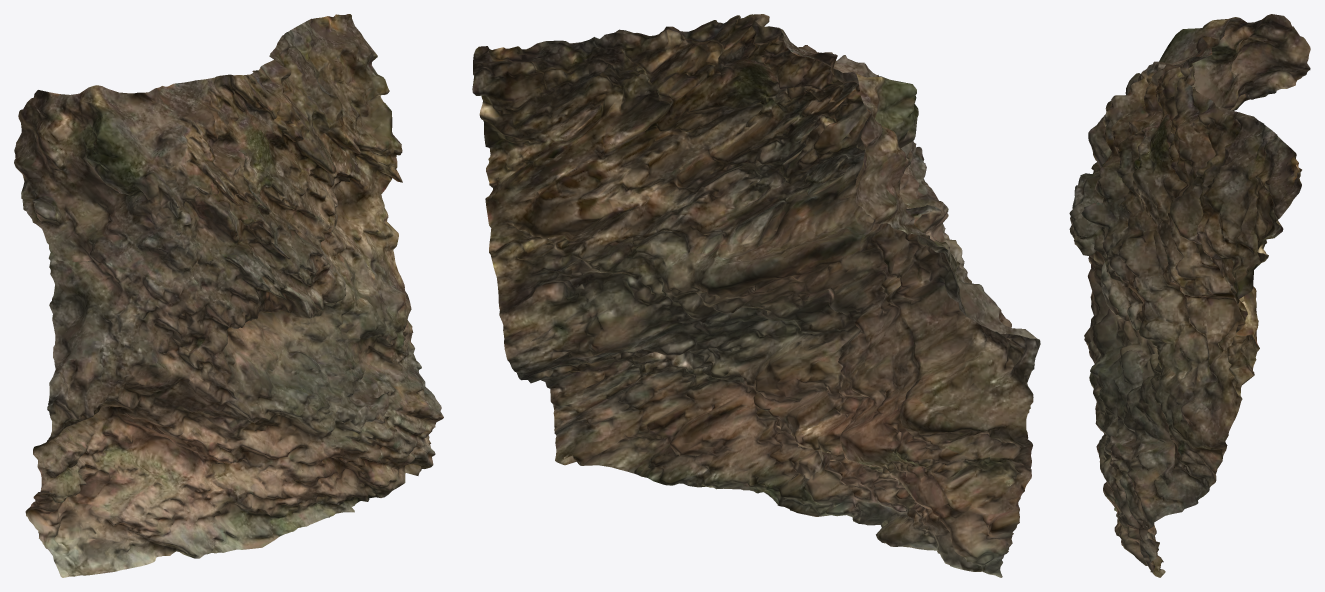
The model's file is mountainside-mid.glb.
3 views of the same model, side by side, from view 1: azimuth 30°, elevation 25°; view 2: azimuth 150°, elevation 25°; view 3: azimuth 270°, elevation 25° (orthographic). The views are drawn at different scales.
Parts seen in each view (by area): view 1: mountainside; view 2: mountainside; view 3: mountainside.
Part boxes in pixels (left/top/right/bottom): mountainside: left=14, top=14, right=443, bottom=577; mountainside: left=472, top=14, right=1040, bottom=577; mountainside: left=1069, top=14, right=1310, bottom=577.
Size of the model in its own units: 10.21 by 10.52 by 5.25.
1 material, 1 textured.
